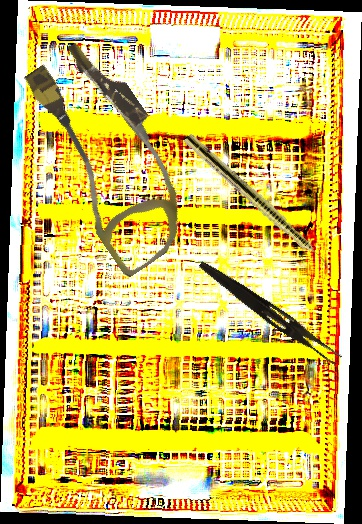Cannula: (1, 31, 218, 280)
Dressing Forceps: (193, 258, 346, 367)
Handpiece: (181, 132, 340, 277)
